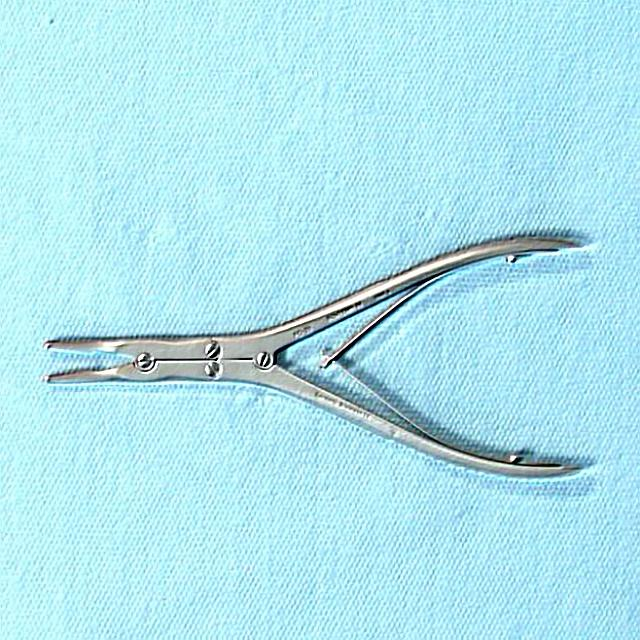gubia: (41, 234, 593, 481)
